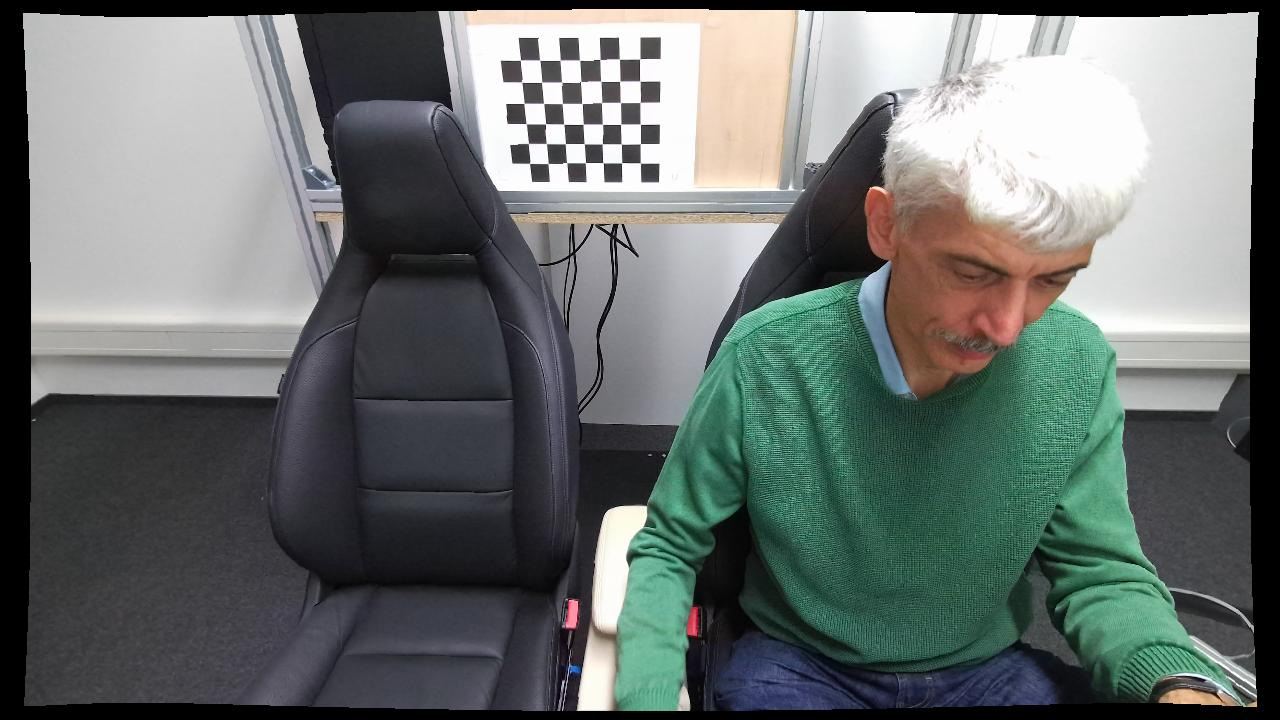Distracted: (606, 60, 1158, 710)
